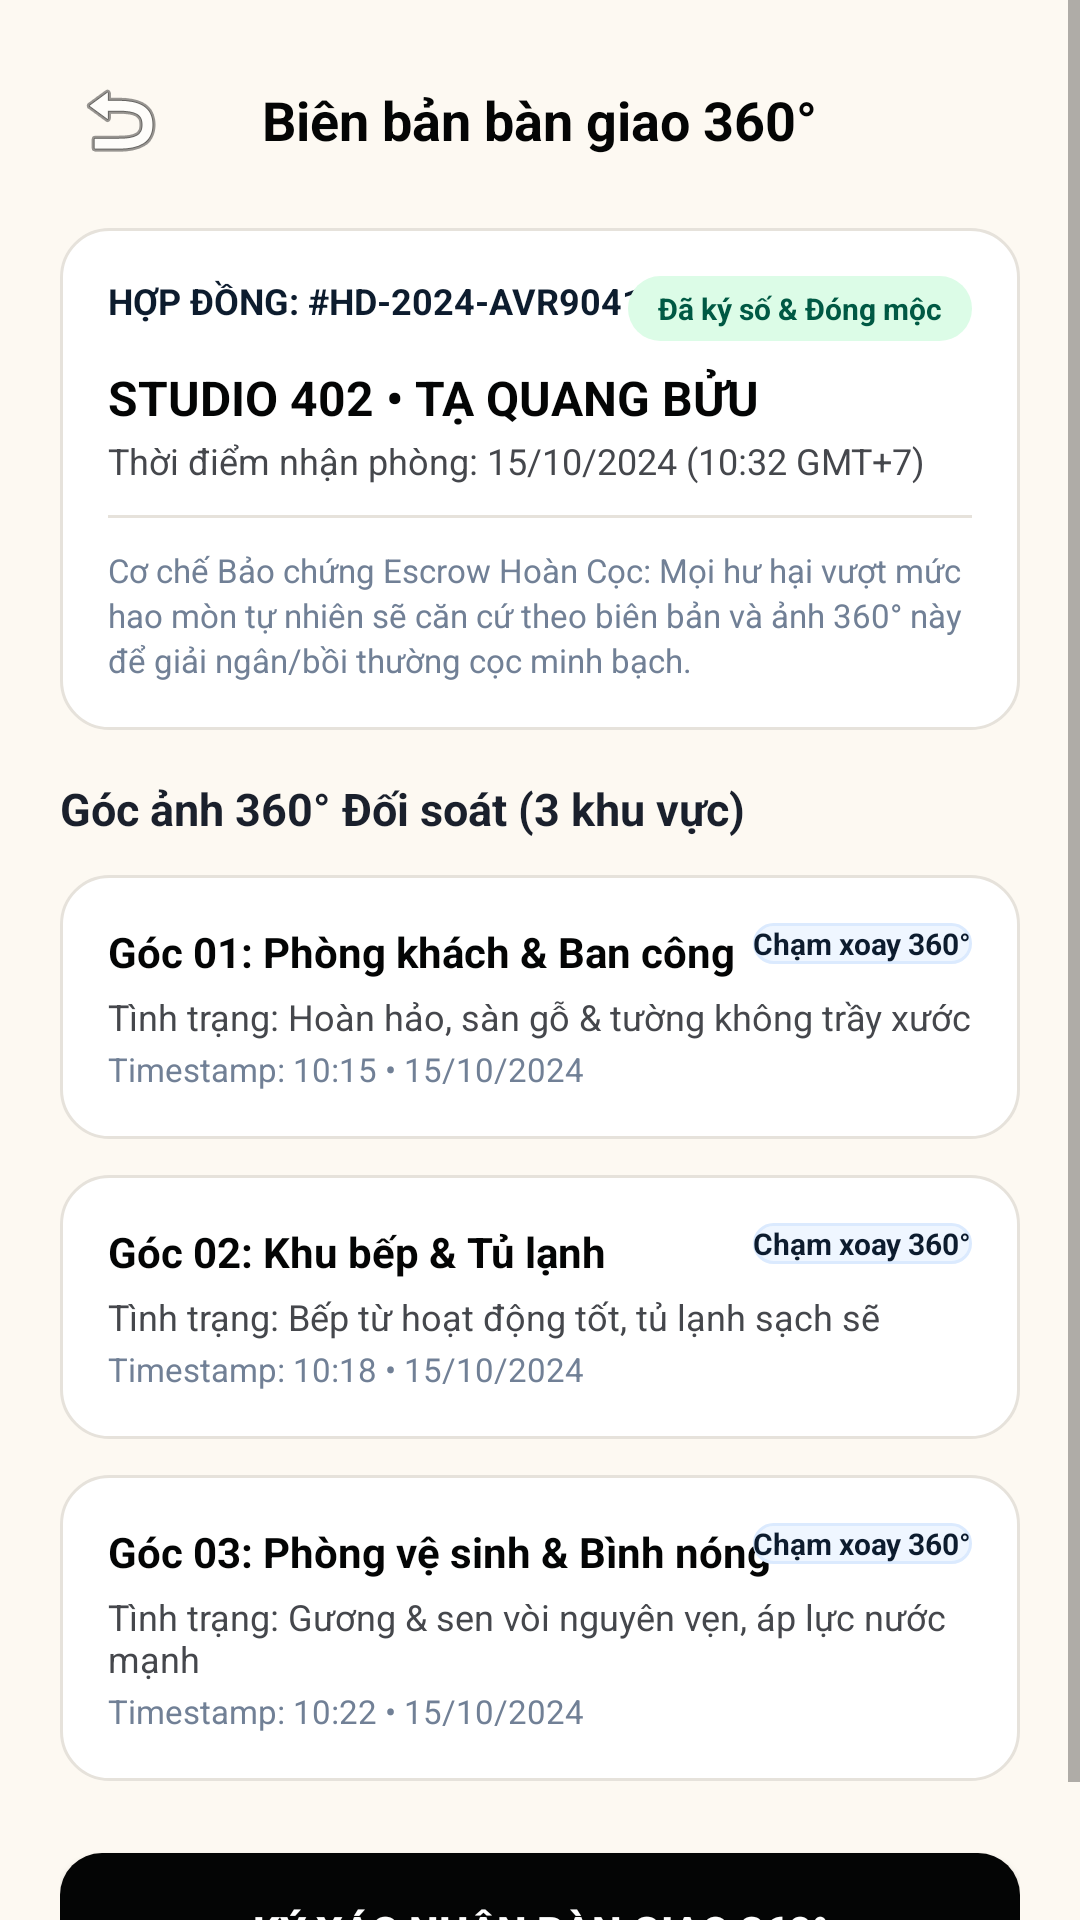

Icons on this 1080x1920 Android screen, each with its box as region(x1, y1, x2, y2):
Quay lại: region(87, 89, 156, 152)
